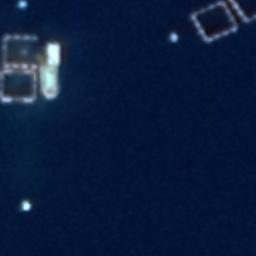square_solid: (189, 1, 242, 45), (1, 30, 44, 73), (1, 65, 42, 106)
